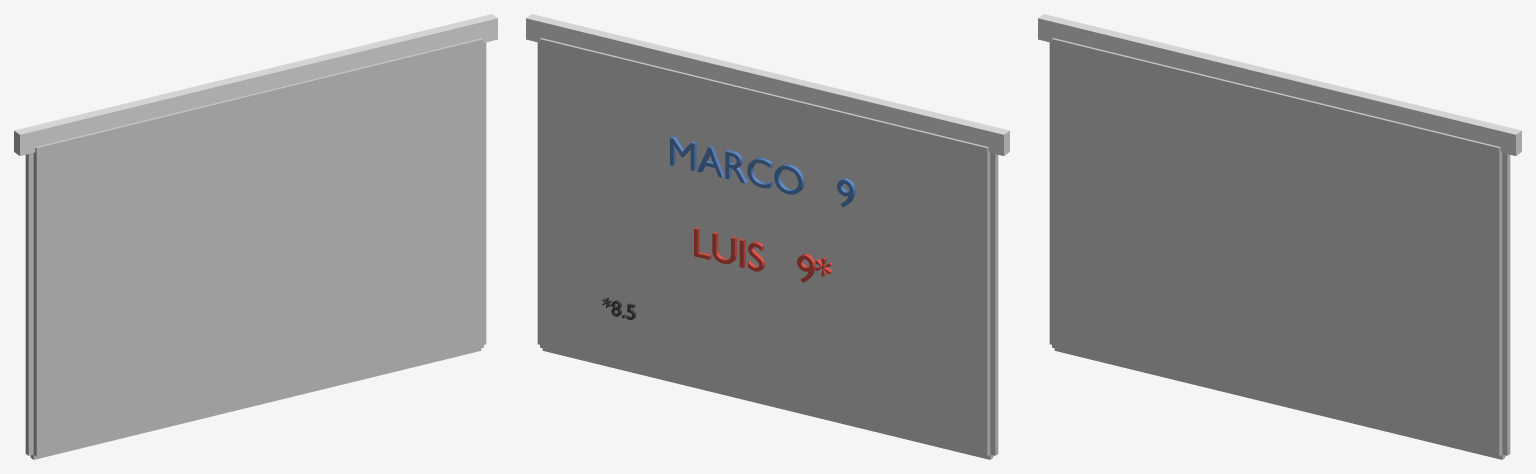
The model's file is scoreboard.glb.
3 renders of one model, left to right at view 1: azimuth 30°, elevation 25°; view 2: azimuth 150°, elevation 25°; view 3: azimuth 330°, elevation 25°, orthographic.
Parts seen in each view (by area): view 1: scoreboard; view 2: scoreboard; view 3: scoreboard.
Boxes of the visible parts, x1,y1,x2,y2 form: scoreboard: (14,14,497,459); scoreboard: (526,14,1009,459); scoreboard: (1038,14,1521,459).
Bounding box in the file's own units: 0.94 × 0.62 × 0.039.
